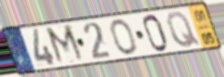0: (141, 13, 170, 53)
2: (83, 21, 113, 62)
4: (32, 27, 56, 67)
M: (43, 23, 88, 66)
O: (110, 18, 139, 56)
Q: (165, 10, 202, 49)
